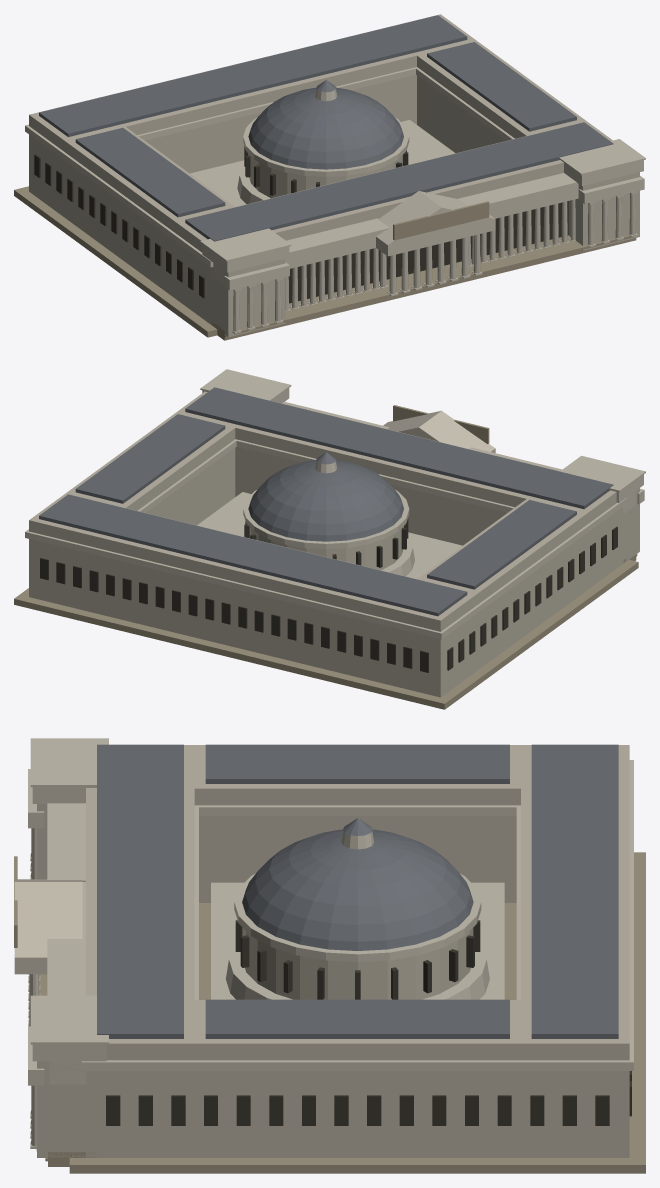
File: british_museum.glb
3 renders of one model, top to bottom at view 1: azimuth 30°, elevation 25°; view 2: azimuth 150°, elevation 25°; view 3: azimuth 270°, elevation 25°, orthographic. The views are drawn at different scales.
Parts seen in each view (by area): view 1: british_museum; view 2: british_museum; view 3: british_museum.
Boxes of the visible parts, x1,y1,x2,y2 form: british_museum: (14,14,645,340); british_museum: (14,369,645,709); british_museum: (14,738,645,1173).
Bounding box in the file's own units: 136 × 40.5 × 116.
